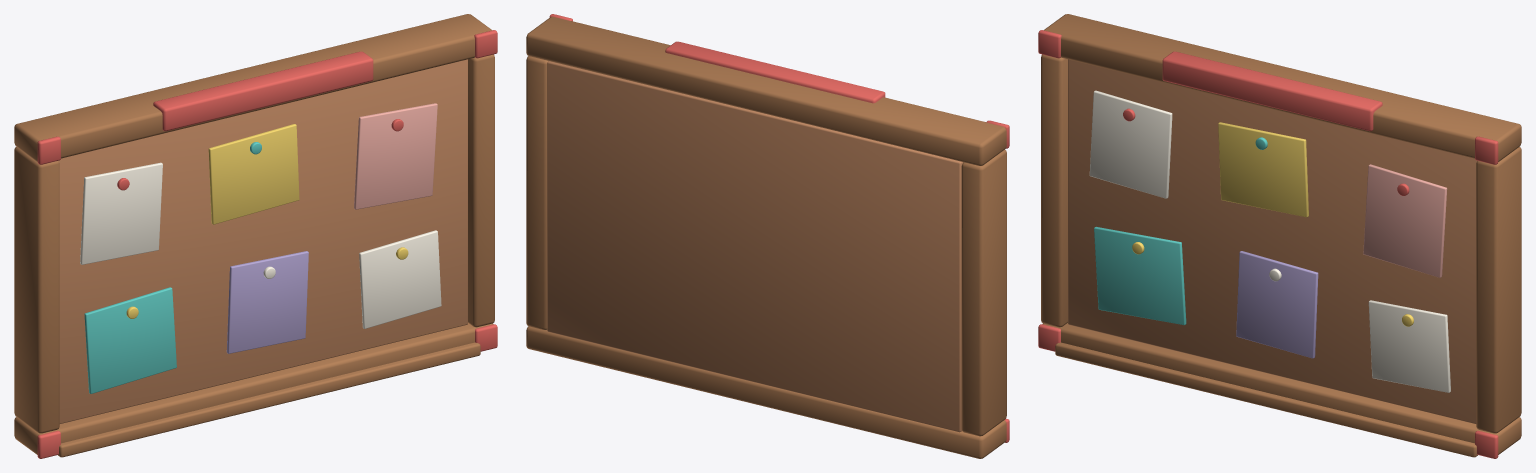
Rendered from bulletin-board.glb.
The picture shows the model from 3 angles, left to right: view 1: azimuth 30°, elevation 25°; view 2: azimuth 150°, elevation 25°; view 3: azimuth 330°, elevation 25°; orthographic projection.
Parts seen in each view (by area): view 1: IntBulletin_CorkBoard, IntBulletin_WoodFrame, IntBulletin_CreamNotes, IntBulletin_CoralAccents, IntBulletin_TurquoiseNotes, IntBulletin_PeachNotes, IntBulletin_ButterNotes, IntBulletin_LavenderNotes; view 2: IntBulletin_CorkBoard, IntBulletin_WoodFrame, IntBulletin_CoralAccents; view 3: IntBulletin_CorkBoard, IntBulletin_WoodFrame, IntBulletin_CreamNotes, IntBulletin_CoralAccents, IntBulletin_TurquoiseNotes, IntBulletin_PeachNotes, IntBulletin_ButterNotes, IntBulletin_LavenderNotes.
Part boxes in pixels (x1=…): IntBulletin_CorkBoard: x1=59, y1=59, x2=467, y2=423; IntBulletin_WoodFrame: x1=14, y1=14, x2=494, y2=457; IntBulletin_CreamNotes: x1=80, y1=162, x2=441, y2=328; IntBulletin_CoralAccents: x1=37, y1=30, x2=497, y2=458; IntBulletin_TurquoiseNotes: x1=84, y1=142, x2=261, y2=393; IntBulletin_PeachNotes: x1=354, y1=103, x2=437, y2=209; IntBulletin_ButterNotes: x1=126, y1=124, x2=408, y2=318; IntBulletin_LavenderNotes: x1=226, y1=251, x2=308, y2=353; IntBulletin_CorkBoard: x1=547, y1=61, x2=963, y2=432; IntBulletin_WoodFrame: x1=526, y1=16, x2=1006, y2=458; IntBulletin_CoralAccents: x1=549, y1=14, x2=1009, y2=442; IntBulletin_CorkBoard: x1=1068, y1=59, x2=1476, y2=423; IntBulletin_WoodFrame: x1=1041, y1=14, x2=1521, y2=457; IntBulletin_CreamNotes: x1=1089, y1=90, x2=1450, y2=392; IntBulletin_CoralAccents: x1=1038, y1=30, x2=1498, y2=458; IntBulletin_TurquoiseNotes: x1=1094, y1=137, x2=1267, y2=325; IntBulletin_PeachNotes: x1=1363, y1=164, x2=1447, y2=277; IntBulletin_ButterNotes: x1=1132, y1=122, x2=1413, y2=326; IntBulletin_LavenderNotes: x1=1236, y1=251, x2=1318, y2=358.
Bounding box in the file's own units: 2.01 × 1.34 × 0.225.
